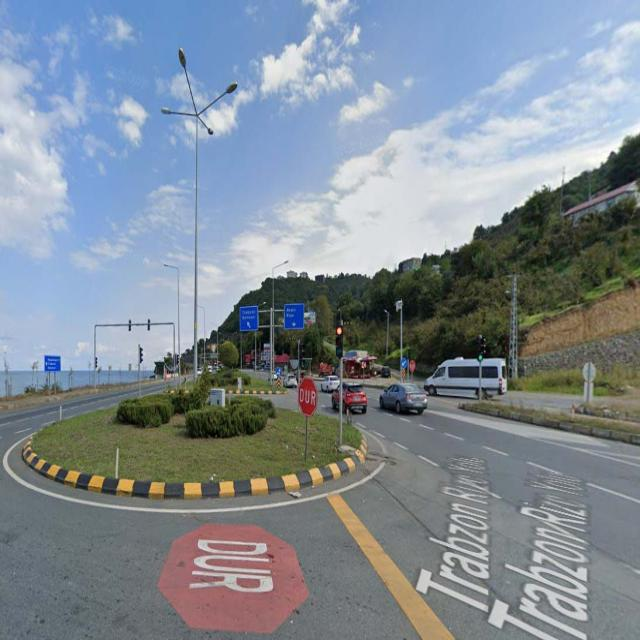dur: (297, 378, 317, 416)
kirmizi: (336, 328, 344, 358)
